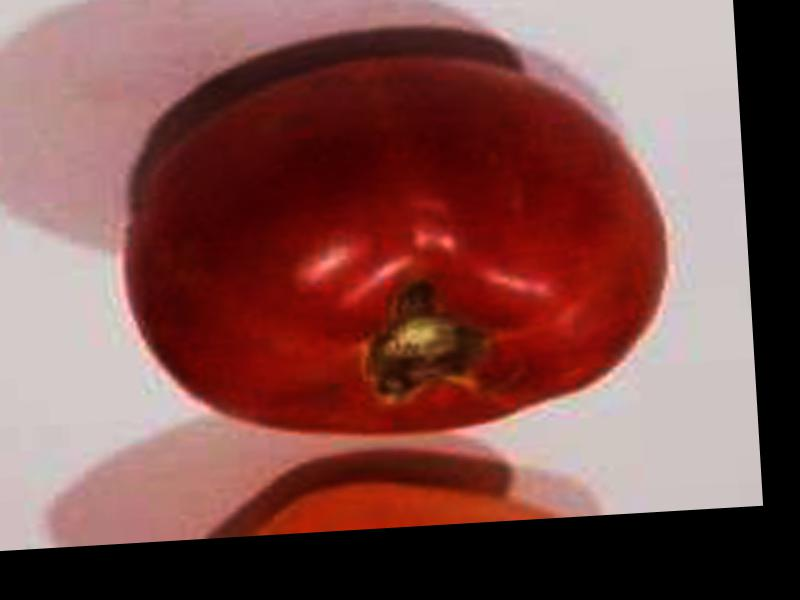Tomato: (119, 46, 676, 446)
